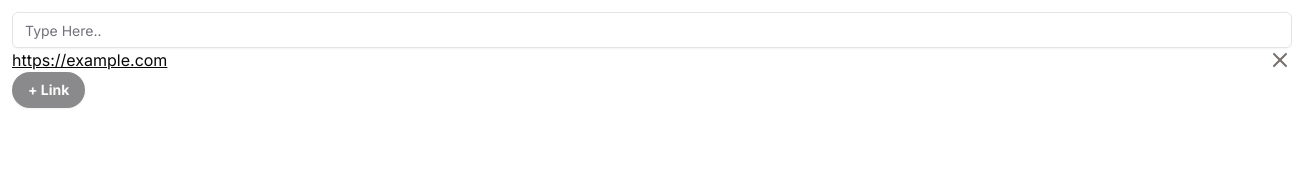
Test: AddLinks › displays an error message for invalid URLs
The width and height of the screenshot is (1304, 172).
Type "invalid-url" into the field with placeholder "Type Here.." at (652, 30), box [12,12,1292,48]
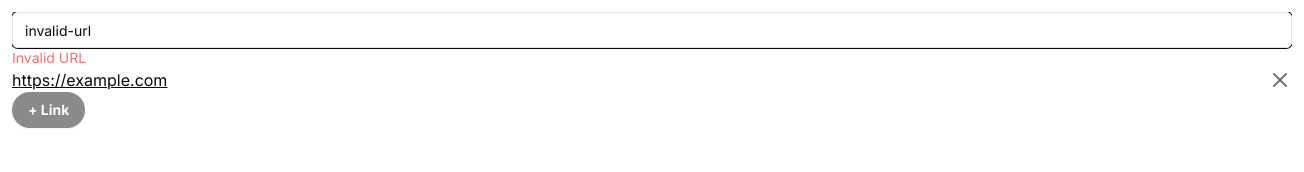
Check: the text "Invalid URL" is shown, box [12,49,86,66]
